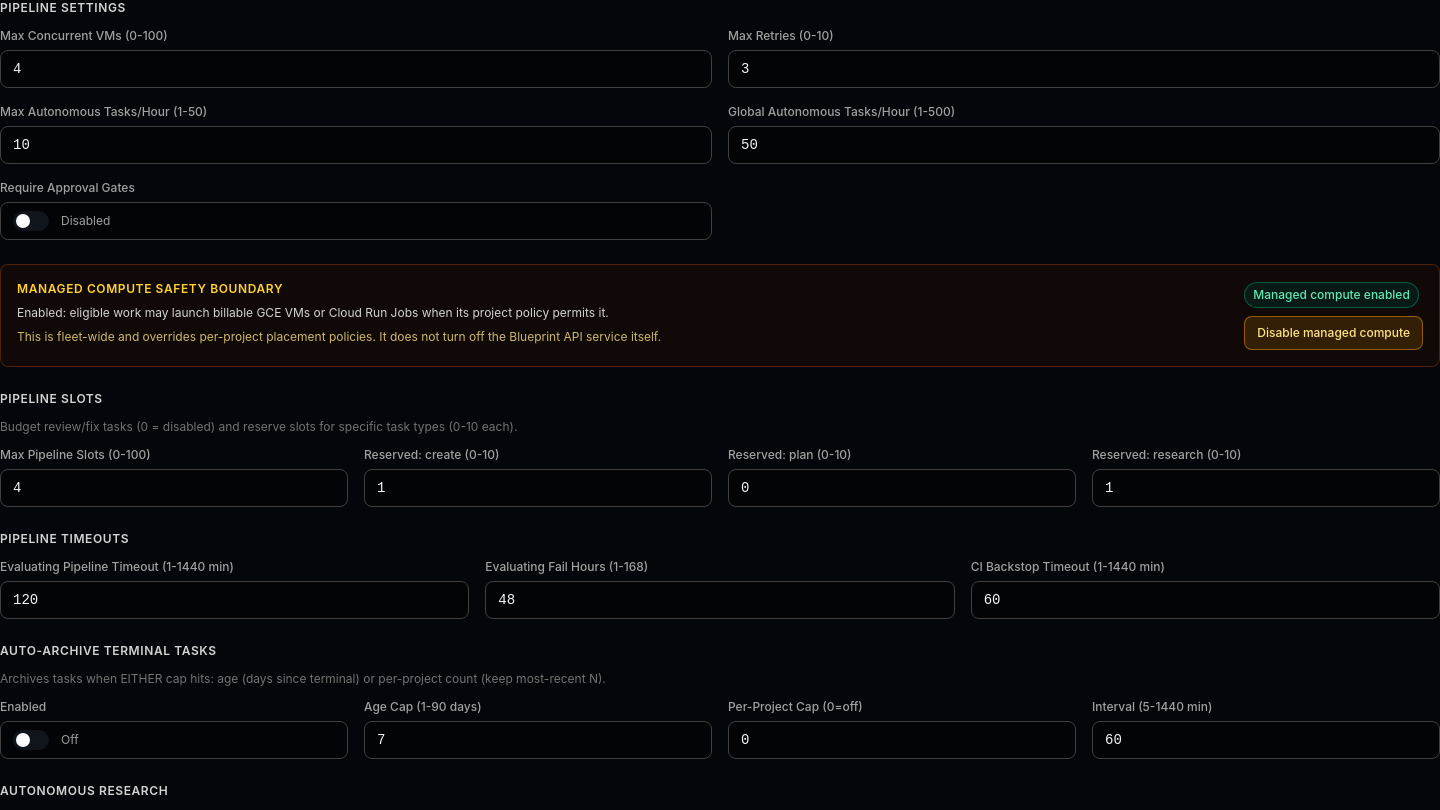
Test: SettingsOrchestratorSection › requires confirmation before disabling managed compute and sends the typed settings patch
The width and height of the screenshot is (1440, 810).
Click the button "Disable managed compute" at (1334, 333), box [1244,316,1423,350]
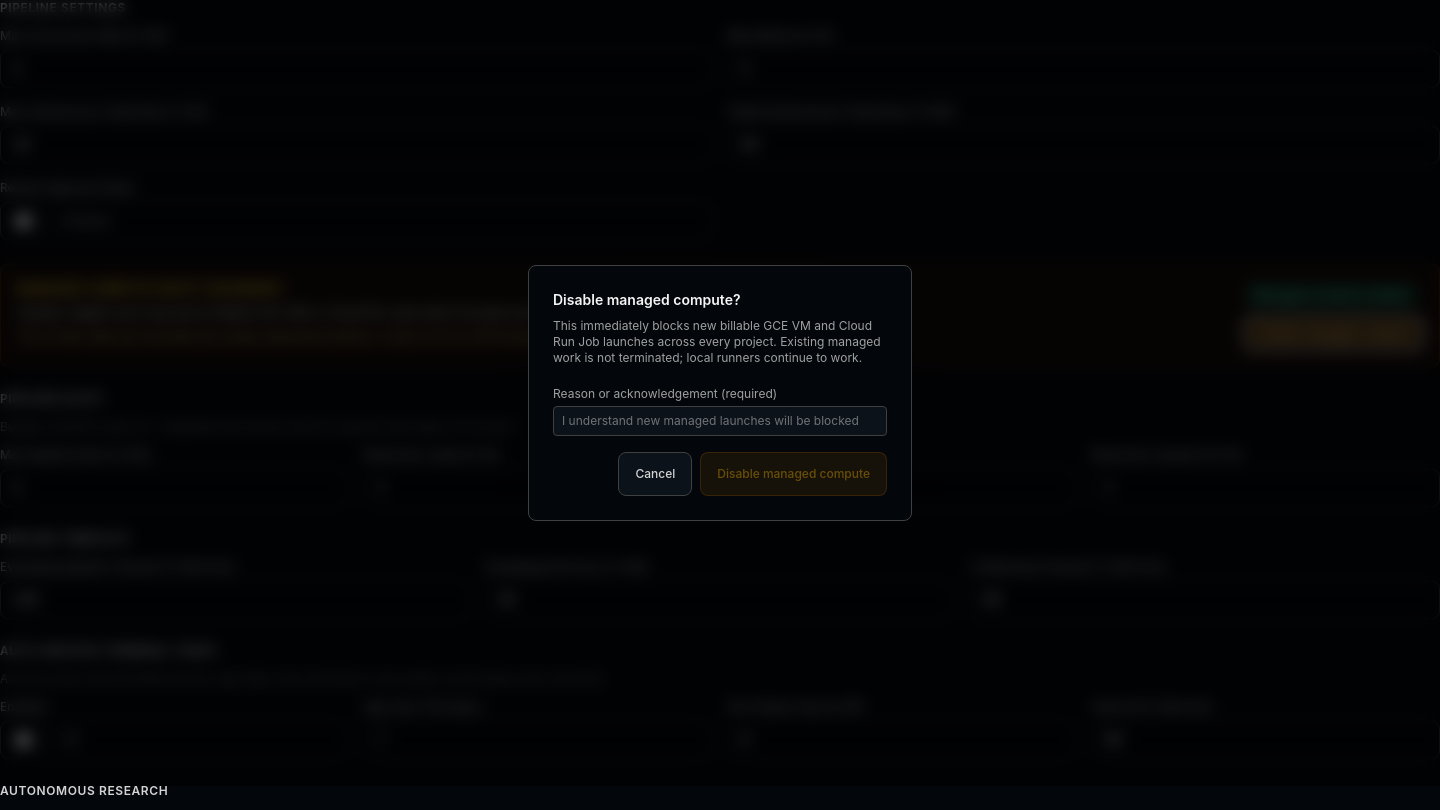
Now the heading "Disable managed compute?" is shown, box [553,291,740,308]
Type "cost stop" into the field with test id "confirm-dialog-attestation-input" at (720, 421), box [553,406,887,436]
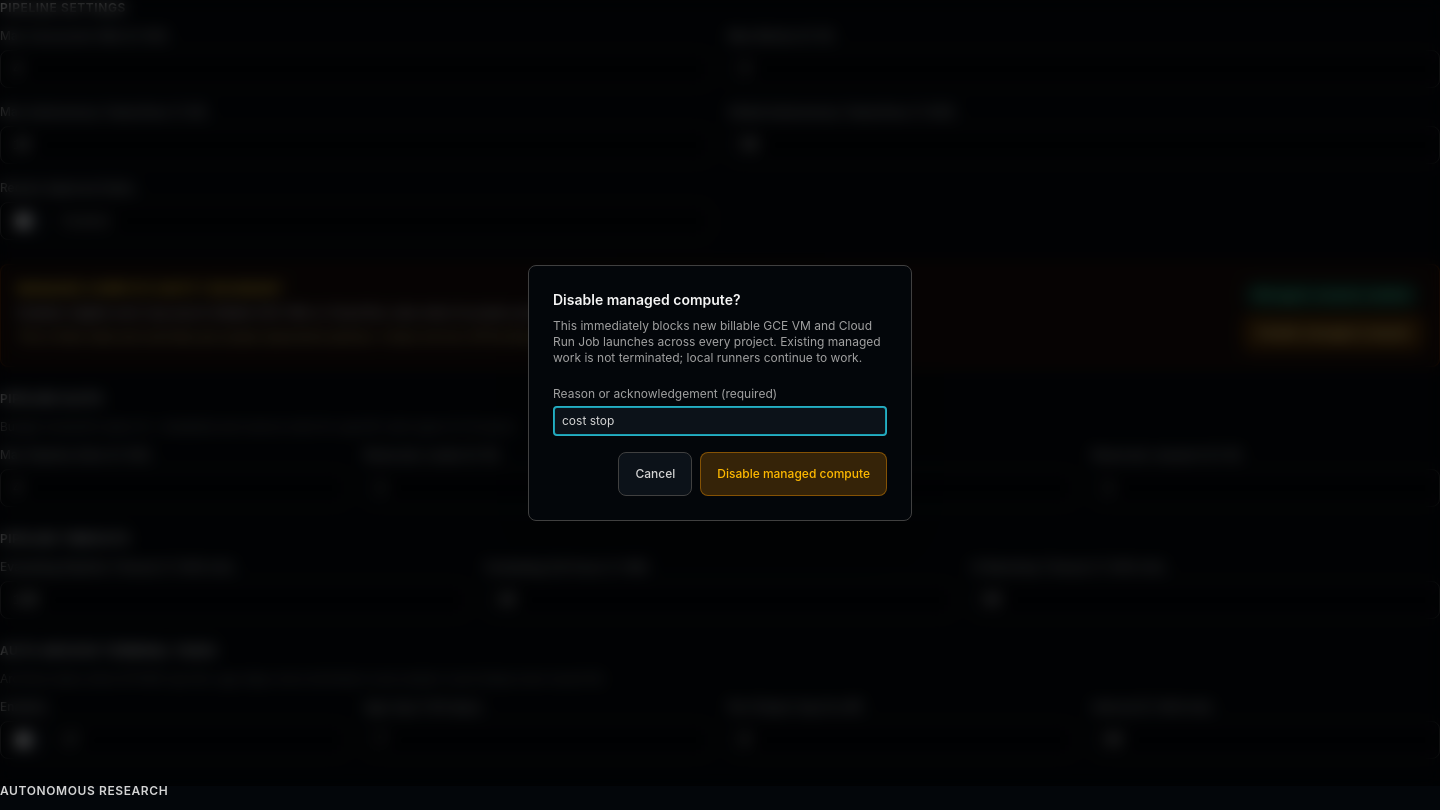
Click the button with test id "confirm-dialog-confirm" at (794, 474), box [700,452,887,496]
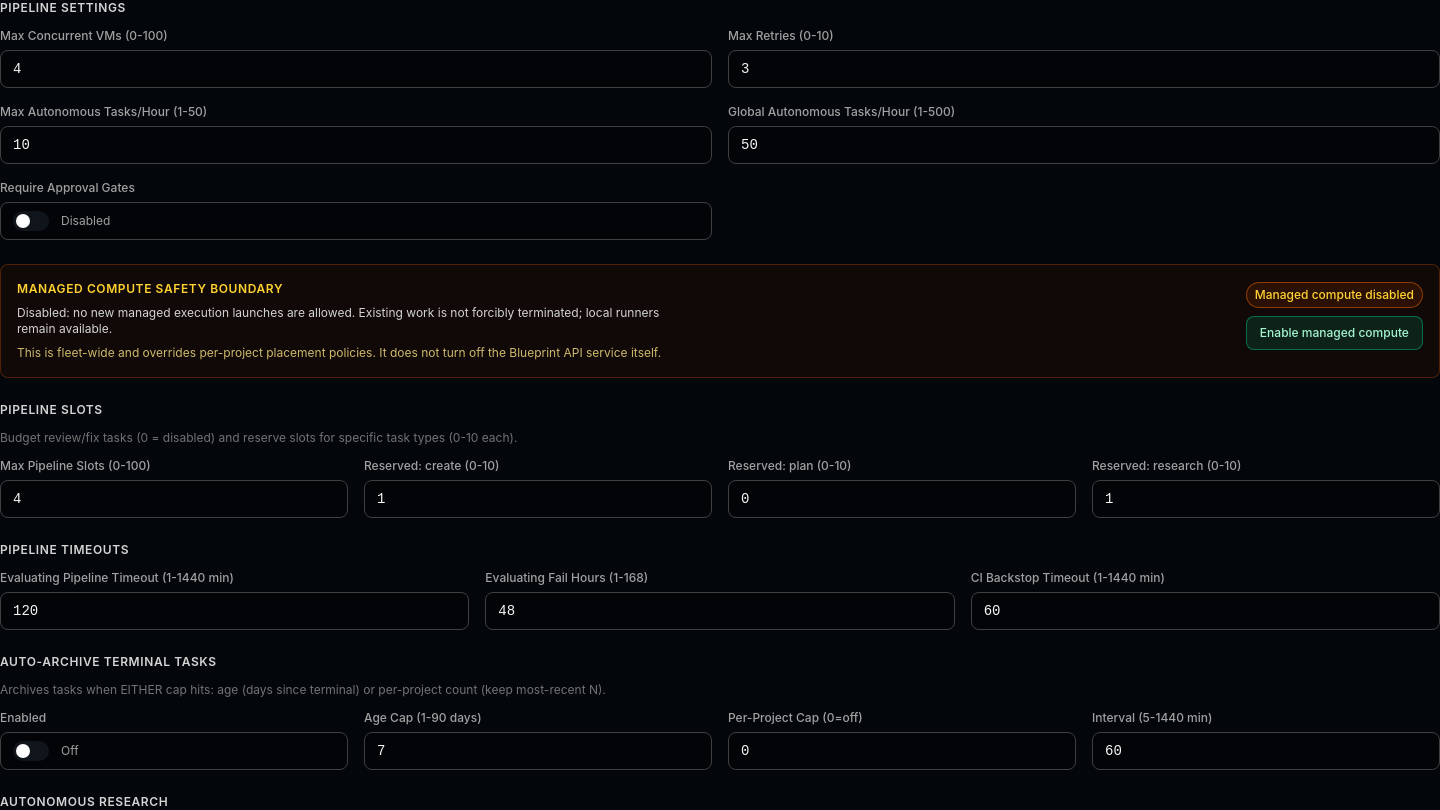
Now the text with test id "managed-compute-state" reads "Managed compute disabled", box [1255,287,1414,302]
